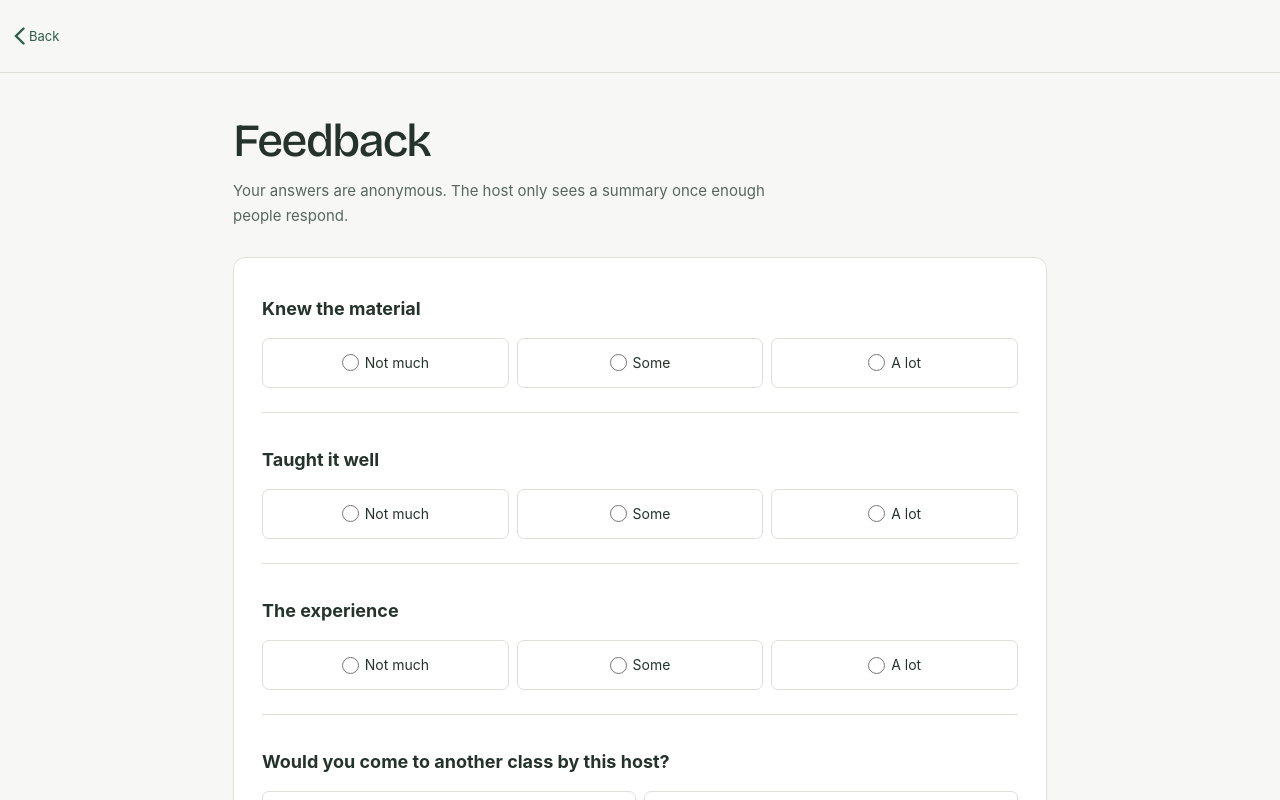
Test case: FeedbackScreen › submits "Yes" as direction: positive, alongside the dials and note
The image size is (1280, 800).
Expected: the text "Knew the material" is shown, [262,298,421,319]
Click the 1st radio button labelled "A lot" at (877, 363), box [868,354,885,371]
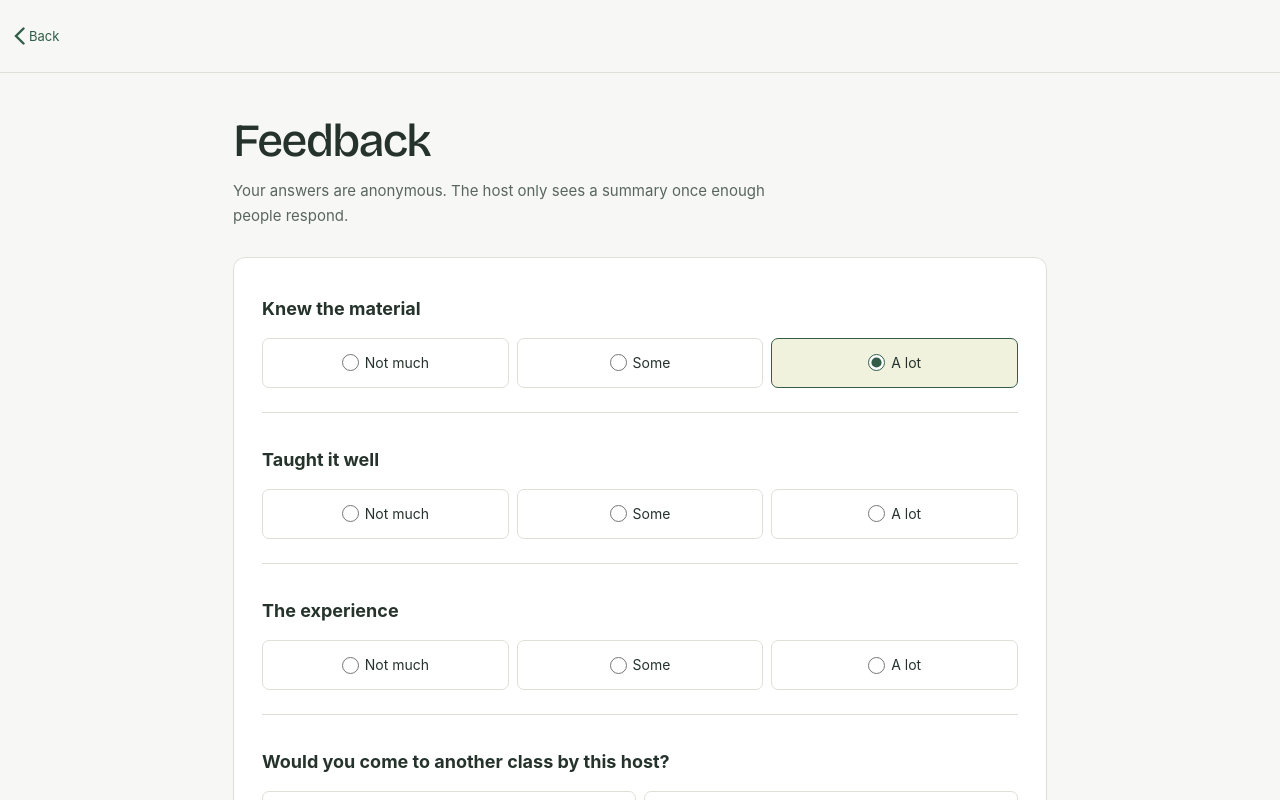
Click the radio button labelled "Some" below "Taught it well" at (618, 514), box [610,506,627,522]
(page scrolled)
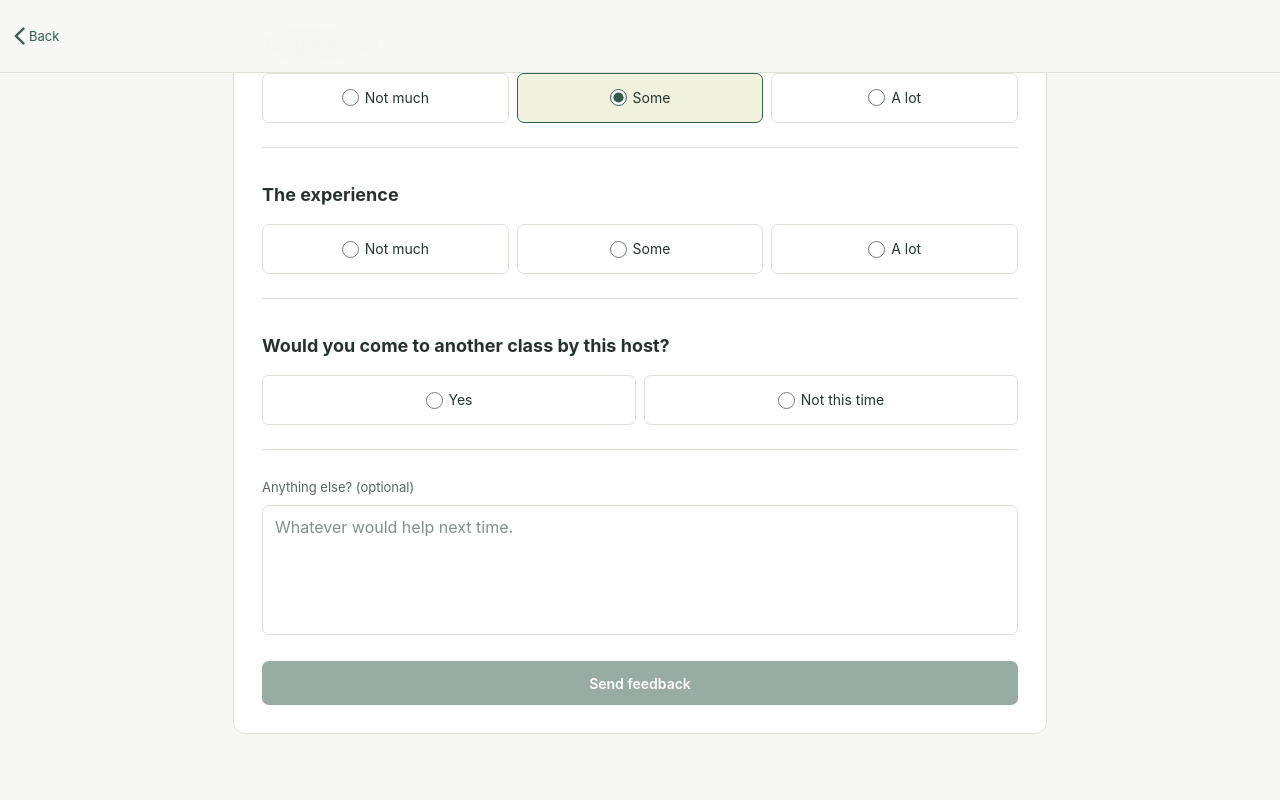
Click the radio button labelled "Yes" at (434, 400), box [426,392,442,409]
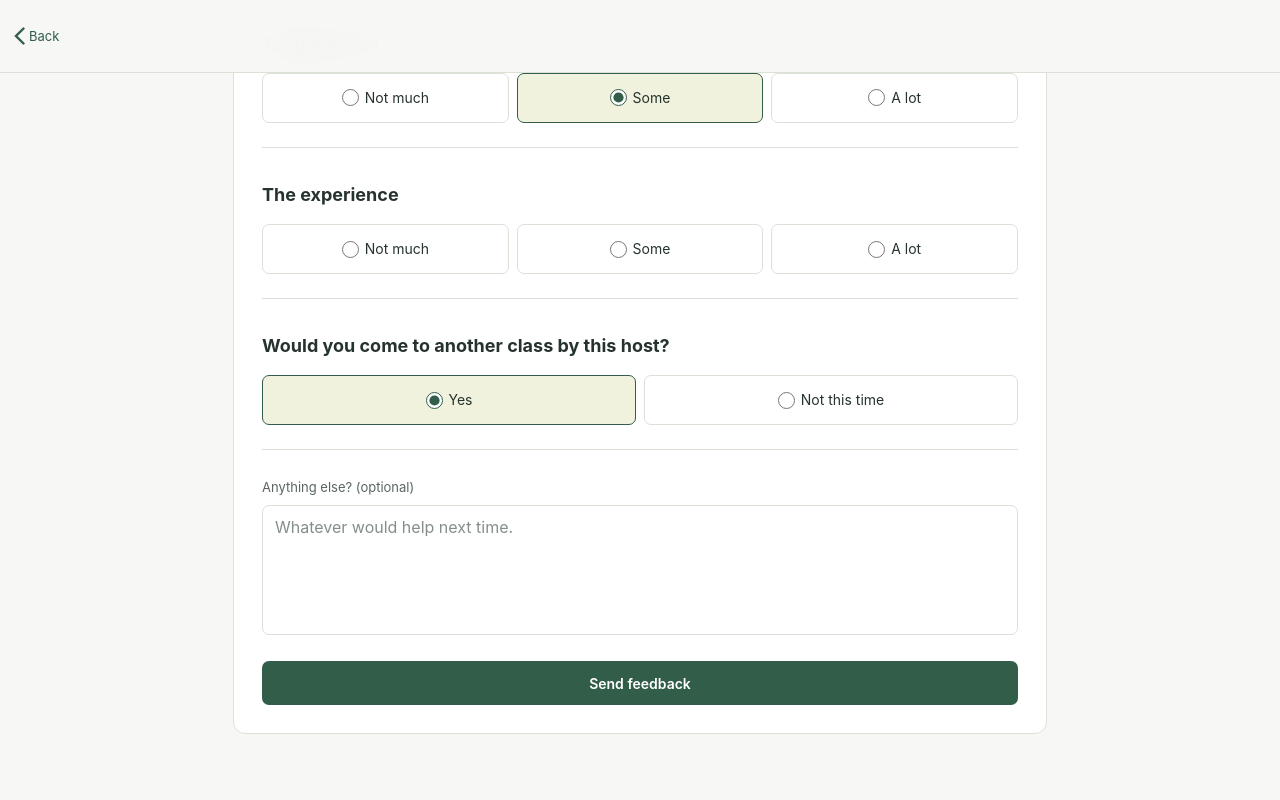
Type "Great class!" into the text box labelled "Anything else? (optional)" at (640, 570), box [262,505,1018,635]
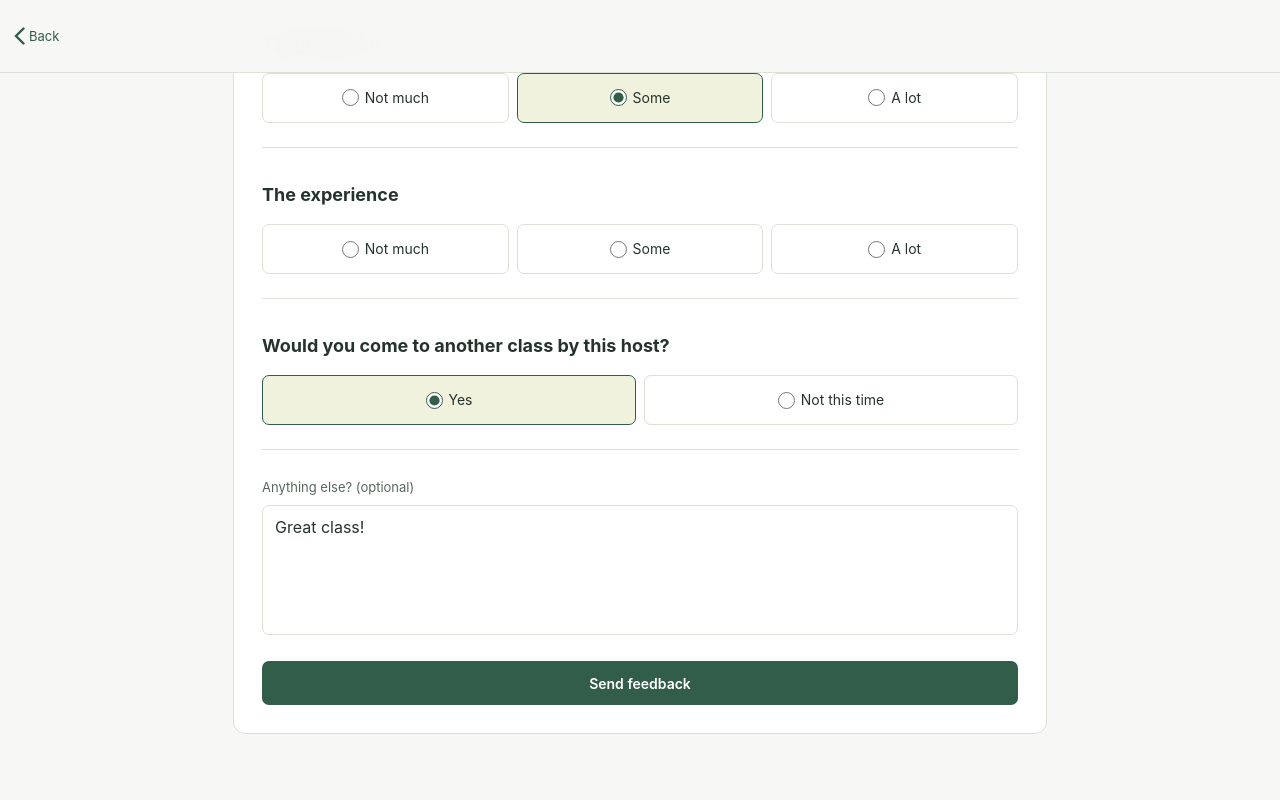
Click the button "Send feedback" at (640, 684), box [262,662,1018,706]
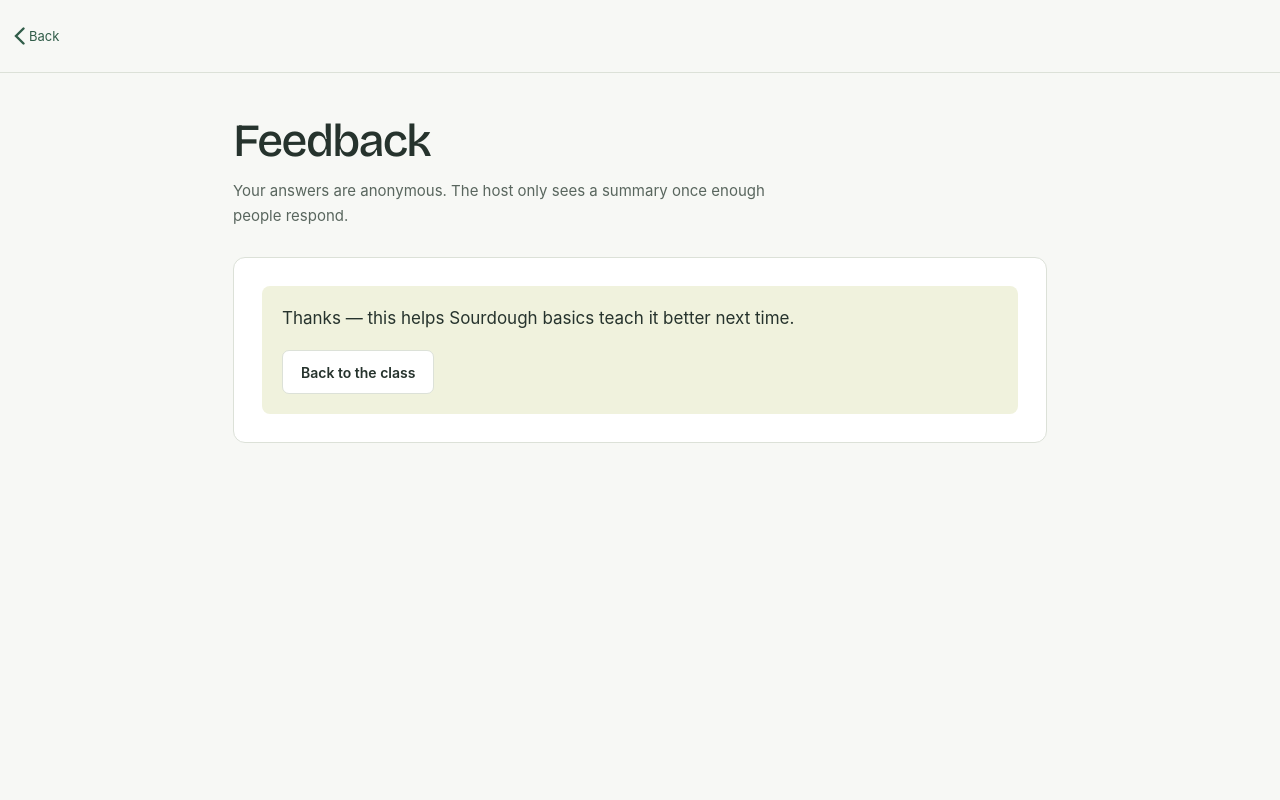
Expected: the text "Thanks" is shown, [282,308,449,328]
